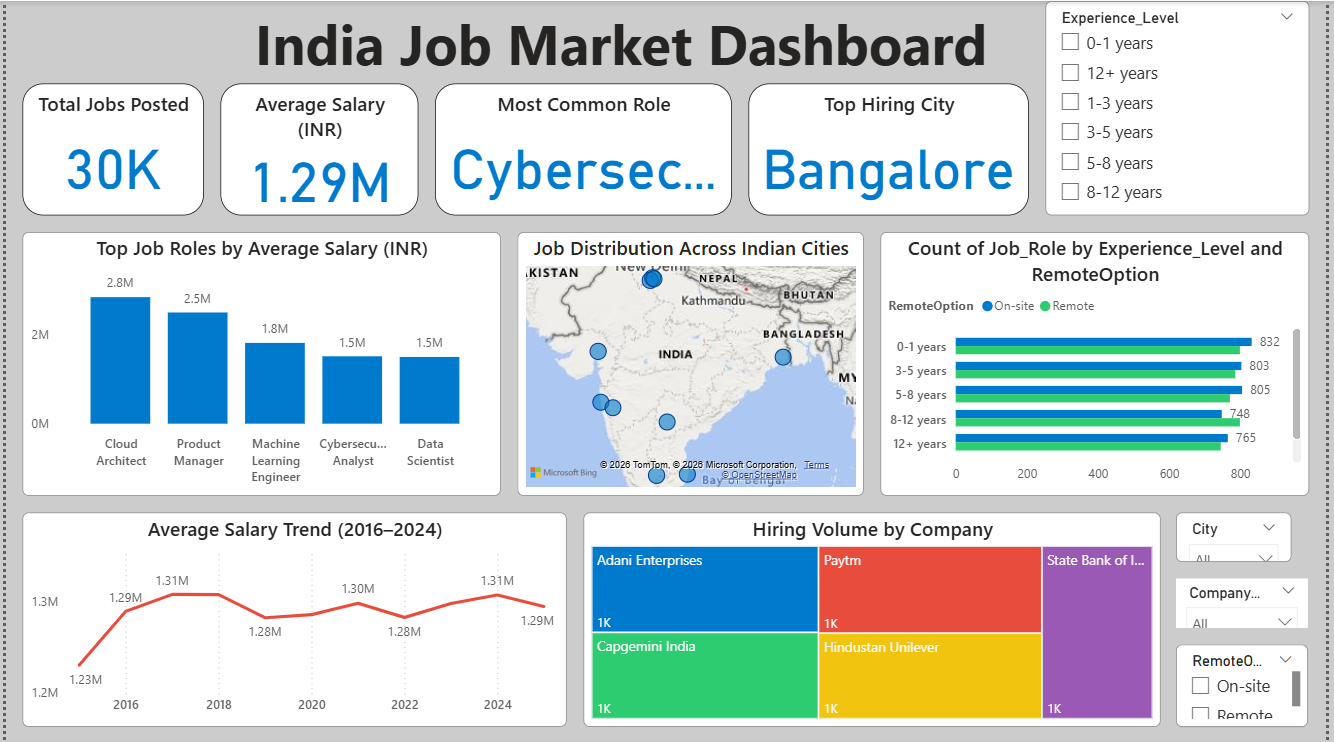

Layout of this report page (visuals, bound fields, positions):
{"tool":"powerbi","page":{"name":"Page 1","canvas":[1280,720],"ordinal":0},"visuals":[{"type":"card","title":"Total Jobs Posted","fields":{"Values":["Job_Market_India.Total_jobs"]},"box":[16,80,176,128],"z":0},{"type":"card","title":"Average Salary (INR)","fields":{"Values":["Job_Market_India.Average_Salary"]},"box":[208,80,192,128],"z":1000},{"type":"card","title":"Top Hiring City","fields":{"Values":["Job_Market_India.Top Hiring City"]},"box":[720,80,272,128],"z":2000},{"type":"card","title":"Most Common Role","fields":{"Values":["Job_Market_India.Most Common Role"]},"box":[416,80,288,128],"z":3000},{"type":"clusteredColumnChart","title":"Top Job Roles by Average Salary (INR)","fields":{"Y":["Job_Market_India.Average_Salary"],"Category":["Job_Market_India.Job_Role"]},"box":[16,224,464,256],"z":4000},{"type":"map","title":"Job Distribution Across Indian Cities","fields":{"Category":["Job_Market_India.City"],"Size":["Job_Market_India.JobCount"]},"box":[496,224,336,256],"z":5000},{"type":"lineChart","title":"Average Salary Trend (2016–2024)","fields":{"Category":["Job_Market_India.Record_Date.Variation.Date Hierarchy.Year","Job_Market_India.Record_Date.Variation.Date Hierarchy.Quarter","Job_Market_India.Record_Date.Variation.Date Hierarchy.Month","Job_Market_India.Record_Date.Variation.Date Hierarchy.Day"],"Y":["Job_Market_India.Average_Salary"]},"box":[16,496,528,208],"z":6000},{"type":"treemap","title":"Hiring Volume by Company","fields":{"Group":["Job_Market_India.Company_Name"],"Values":["Job_Market_India.JobCount"]},"box":[560,496,560,208],"z":7000},{"type":"slicer","fields":{"Values":["Job_Market_India.City"]},"box":[1136,496,112,48],"z":8000},{"type":"slicer","fields":{"Values":["Job_Market_India.RemoteOption"]},"box":[1136,624,128,80],"z":9000},{"type":"slicer","fields":{"Values":["Job_Market_India.Company_Name"]},"box":[1136,560,128,48],"z":10000},{"type":"textbox","box":[48,0,1120,80],"z":11000},{"type":"clusteredBarChart","fields":{"Category":["Job_Market_India.Experience_Level"],"Y":["CountNonNull(Job_Market_India.Job_Role)"],"Series":["Job_Market_India.RemoteOption"]},"box":[848,224,416,256],"z":12000},{"type":"slicer","fields":{"Values":["Job_Market_India.Experience_Level"]},"box":[1008,0,256,208],"z":13000}]}

Visuals, with their boxes in screenshot pixels (x1, y1, x2, y2), scaled from the page's 1280x720 canvas onto the 1334x742 screenshot:
"Total Jobs Posted" card: crop(17, 82, 200, 214)
"Average Salary (INR)" card: crop(217, 82, 417, 214)
"Top Hiring City" card: crop(750, 82, 1034, 214)
"Most Common Role" card: crop(434, 82, 734, 214)
"Top Job Roles by Average Salary (INR)" clusteredColumnChart: crop(17, 231, 500, 495)
"Job Distribution Across Indian Cities" map: crop(517, 231, 867, 495)
"Average Salary Trend (2016–2024)" lineChart: crop(17, 511, 567, 726)
"Hiring Volume by Company" treemap: crop(584, 511, 1167, 726)
slicer - Job_Market_India.City: crop(1184, 511, 1301, 561)
slicer - Job_Market_India.RemoteOption: crop(1184, 643, 1317, 726)
slicer - Job_Market_India.Company_Name: crop(1184, 577, 1317, 627)
textbox: crop(50, 0, 1217, 82)
clusteredBarChart - Job_Market_India.Experience_Level x CountNonNull(Job_Market_India.Job_Role): crop(884, 231, 1317, 495)
slicer - Job_Market_India.Experience_Level: crop(1051, 0, 1317, 214)
